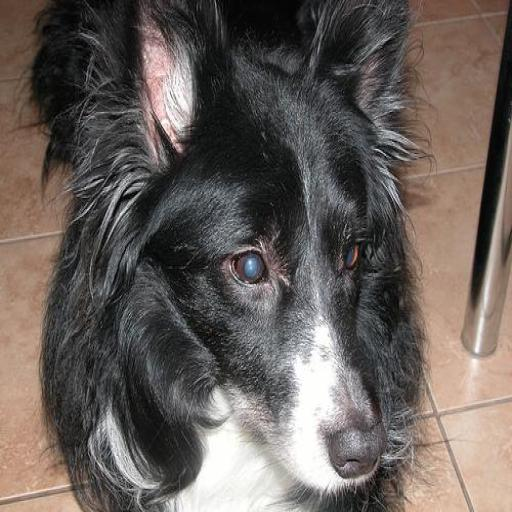dog_face: (75, 6, 443, 501)
